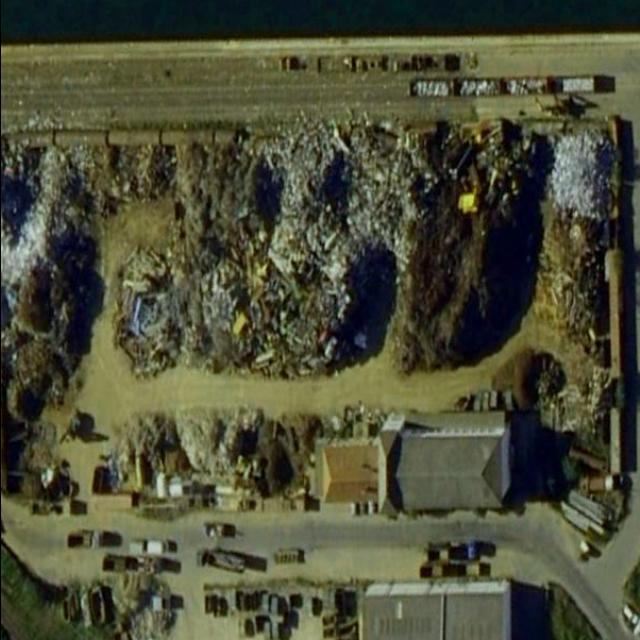dump_site: (110, 144, 396, 373), (552, 133, 614, 216)
